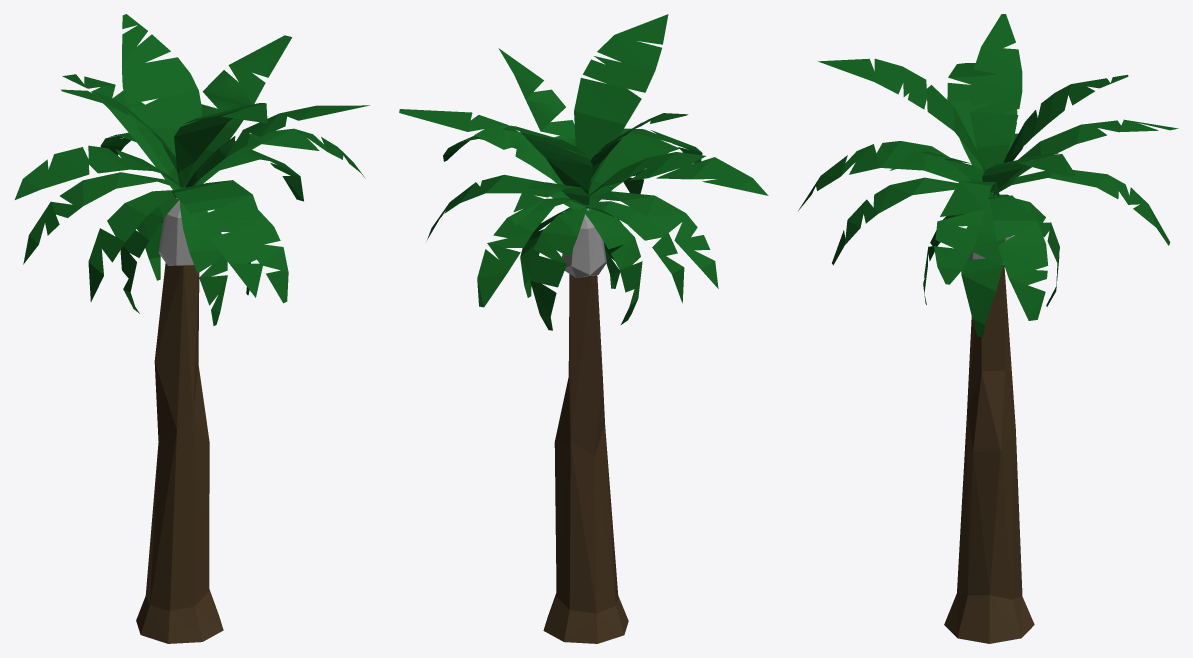
File: DateTree.fbx
3 renders of one model, left to right at view 1: azimuth 30°, elevation 25°; view 2: azimuth 150°, elevation 25°; view 3: azimuth 270°, elevation 25°, orthographic. The views are drawn at different scales.
Parts seen in each view (by area): view 1: DateTree; view 2: DateTree; view 3: DateTree.
Part boxes in pixels (<box>): DateTree: <box>15,14,369,643</box>; DateTree: <box>399,14,768,643</box>; DateTree: <box>798,14,1178,643</box>.
Bounding box in the file's own units: 112 × 176 × 108.
